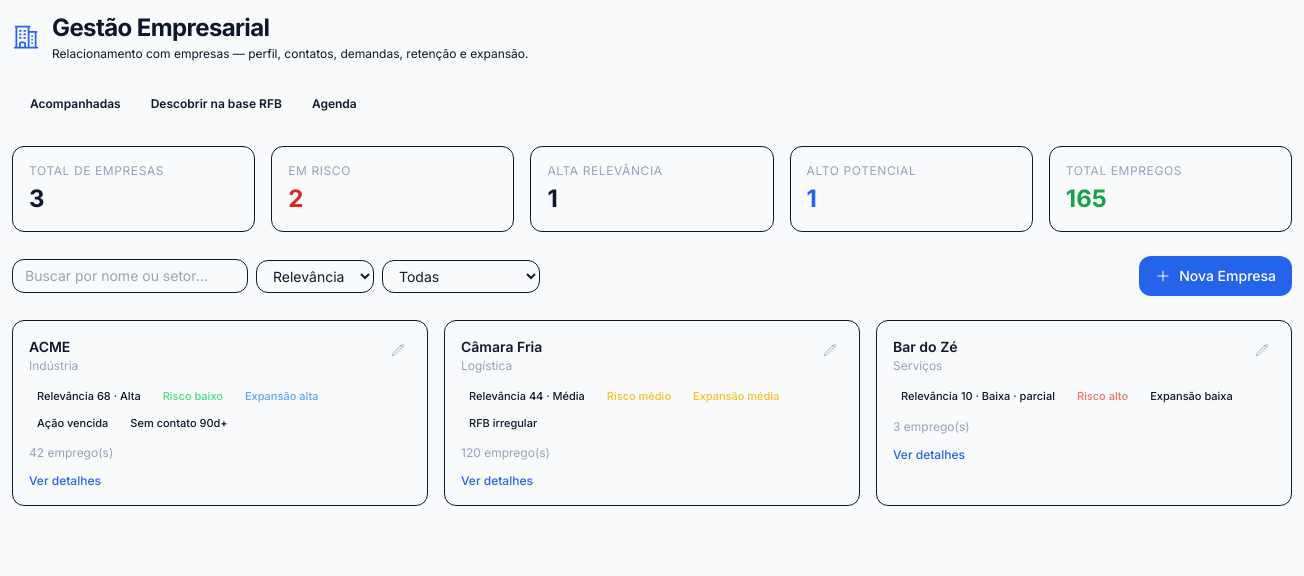
Test: GestaoEmpresarialTab — aba Agenda › a aba Agenda carrega /retencao/agenda e some ao voltar
The image size is (1304, 576).
Expected: the button "ACME" is shown, x1=29 y1=338 x2=70 y2=355
Click the tab "Agenda" at (334, 104), box x1=298 y1=90 x2=371 y2=118
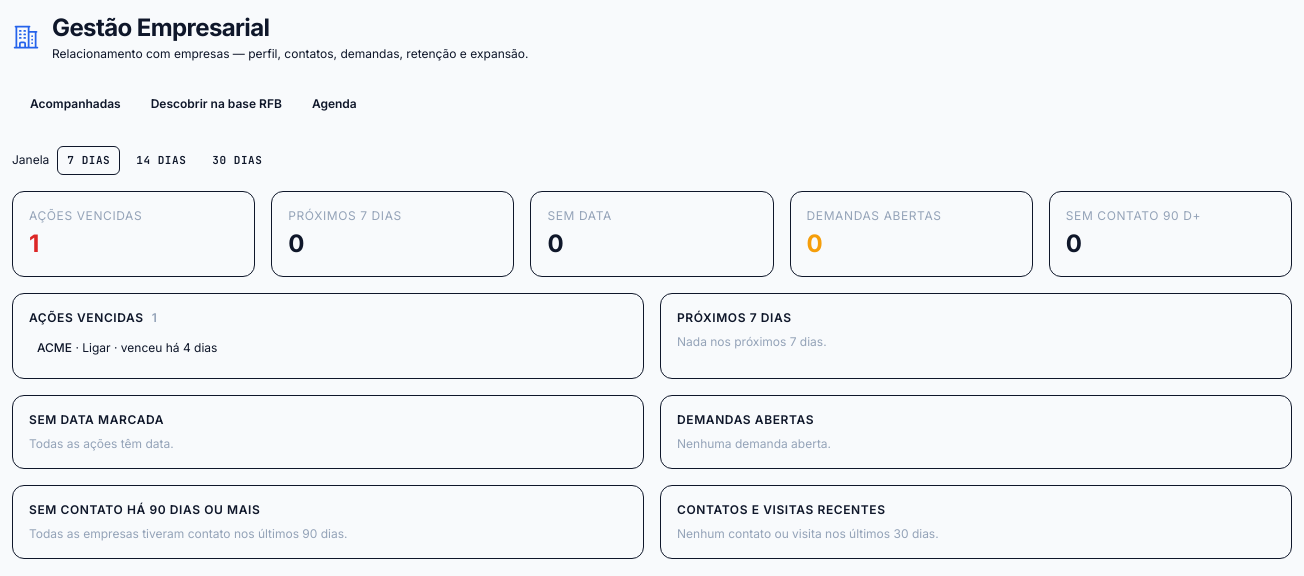
Expected: the element "Ações vencidas" is shown, x1=12 y1=292 x2=644 y2=378
Click the tab "Acompanhadas" at (75, 104), box x1=16 y1=90 x2=135 y2=118
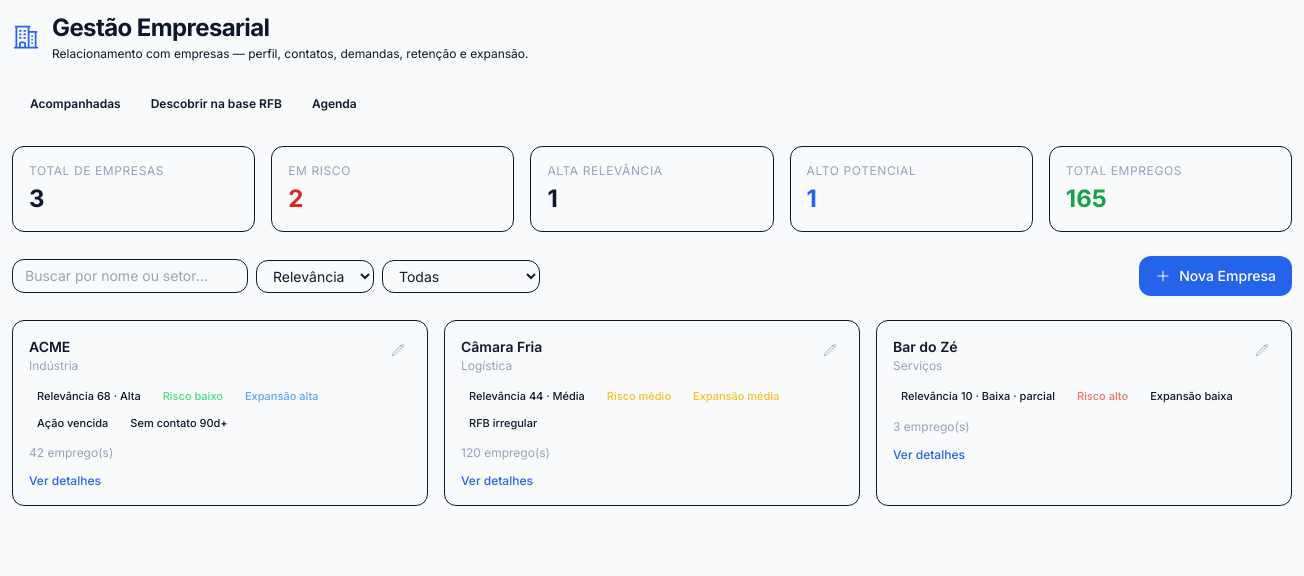
Expected: the text "Ações vencidas" is gone
